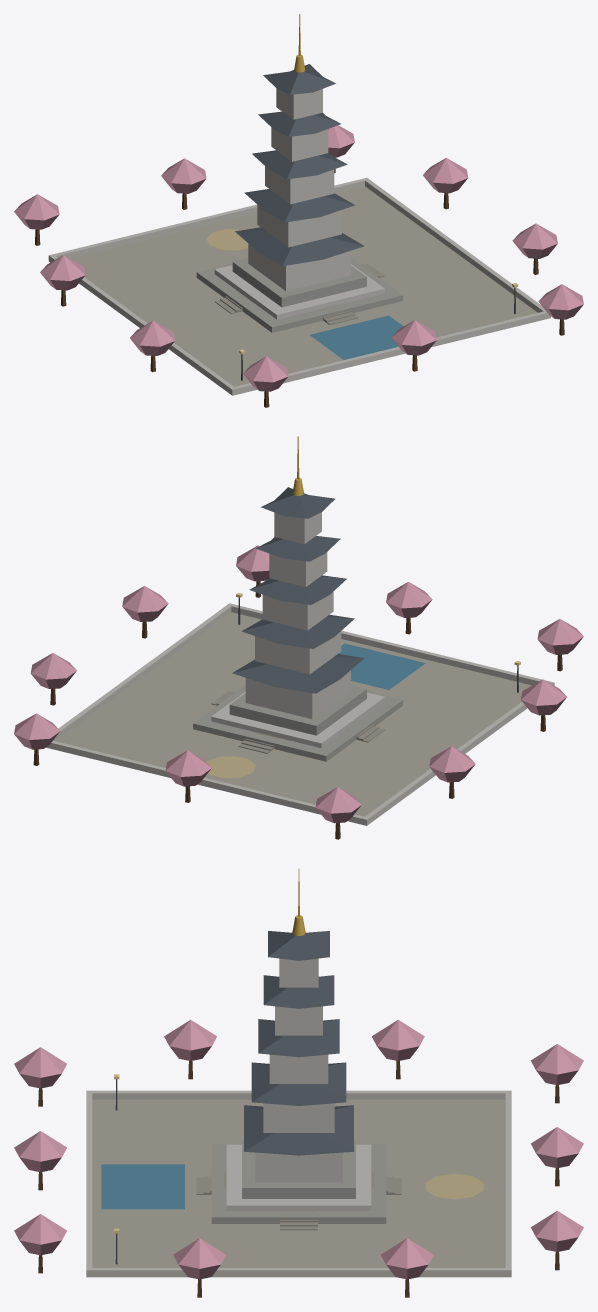
The model's file is desktop.glb.
The picture shows the model from 3 angles, top to bottom: view 1: azimuth 30°, elevation 25°; view 2: azimuth 150°, elevation 25°; view 3: azimuth 270°, elevation 25°; orthographic projection. The views are drawn at different scales.
Visible parts, largest first — view 1: lm.peace-pagoda; view 2: lm.peace-pagoda; view 3: lm.peace-pagoda.
Part boxes in pixels (x1,y1,x2,y2): lm.peace-pagoda: (14,14,583,407); lm.peace-pagoda: (14,436,583,839); lm.peace-pagoda: (14,868,583,1297).
Bounding box in the file's own units: 74.84 × 48.3 × 75.02.
